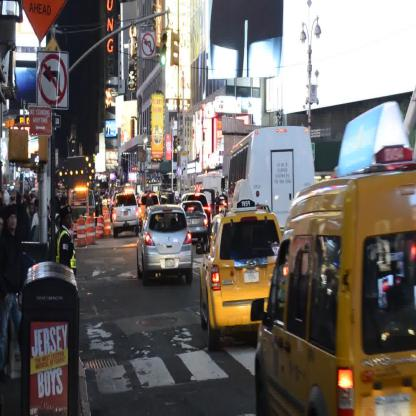car: (254, 167, 416, 414), (200, 211, 282, 354), (137, 205, 193, 287), (112, 192, 139, 237), (181, 203, 209, 245)
